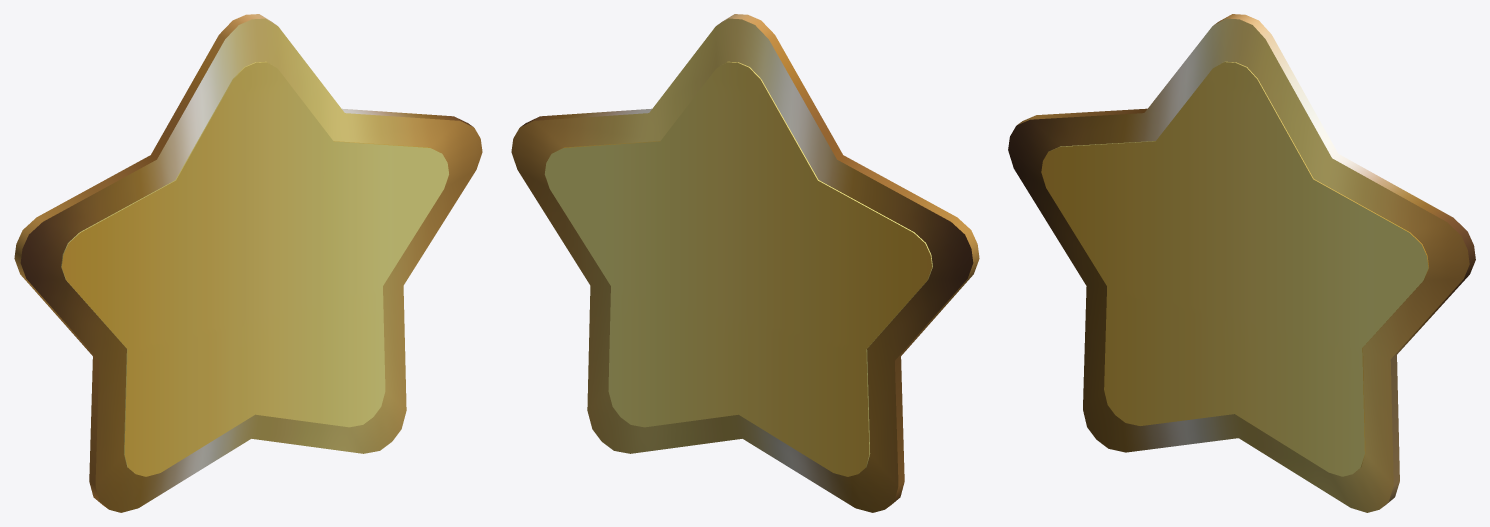
File: badge_star.FBX
3 views of the same model, side by side, from view 1: azimuth 30°, elevation 25°; view 2: azimuth 150°, elevation 25°; view 3: azimuth 330°, elevation 25° (orthographic).
Parts seen in each view (by area): view 1: badge_star; view 2: badge_star; view 3: badge_star.
Part boxes in pixels (x1,y1,x2,y2): badge_star: (14, 14, 482, 512); badge_star: (511, 14, 979, 512); badge_star: (1008, 14, 1475, 512).
Size of the model in its own units: 176 by 169 by 9.27.
Materials: 1 (1 with a texture image).
